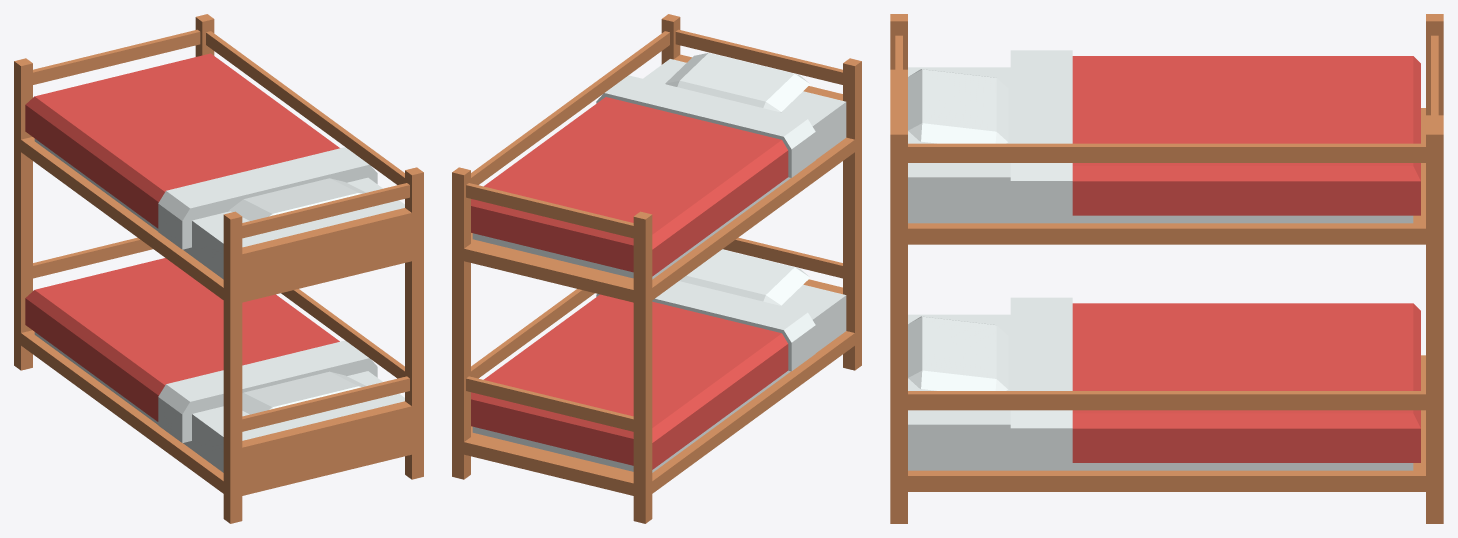
Rendered from bedBunk.dae.
3 views of the same model, side by side, from view 1: azimuth 30°, elevation 25°; view 2: azimuth 150°, elevation 25°; view 3: azimuth 270°, elevation 25° (orthographic). The views are drawn at different scales.
Visible parts, largest first — view 1: bedBunk, coverTop, coverBottom, pillowTop, pillowBottom; view 2: bedBunk, coverTop, coverBottom, pillowTop, pillowBottom; view 3: bedBunk, coverTop, coverBottom, pillowTop, pillowBottom.
Part boxes in pixels (<box>): bedBunk: <box>14,14,423,523</box>; coverTop: <box>25,53,377,249</box>; coverBottom: <box>25,258,377,442</box>; pillowTop: <box>229,178,365,220</box>; pillowBottom: <box>242,371,366,414</box>; bedBunk: <box>452,14,861,523</box>; coverTop: <box>471,75,815,276</box>; coverBottom: <box>471,281,815,469</box>; pillowTop: <box>665,53,810,112</box>; pillowBottom: <box>679,249,810,305</box>; bedBunk: <box>890,14,1443,523</box>; coverTop: <box>1010,50,1420,217</box>; coverBottom: <box>1010,297,1420,464</box>; pillowTop: <box>908,69,1008,143</box>; pillowBottom: <box>908,316,1008,390</box>.
Size of the model in its own units: 0.571 by 0.85 by 1.1.
